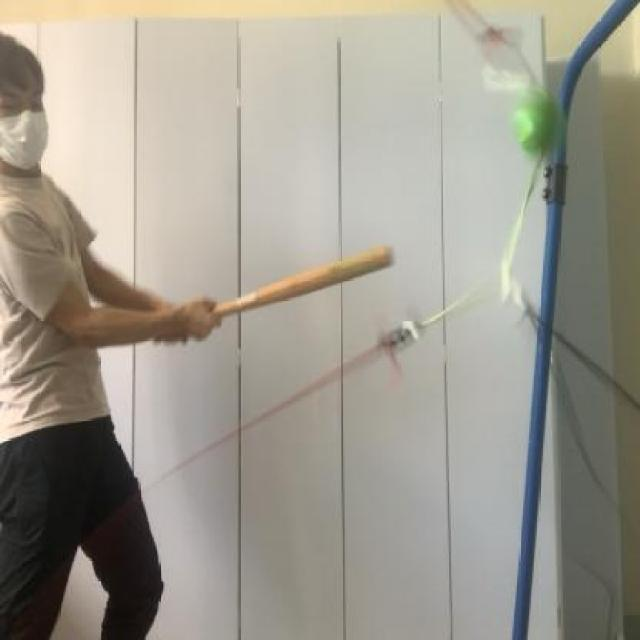baseball: (501, 67, 576, 176)
